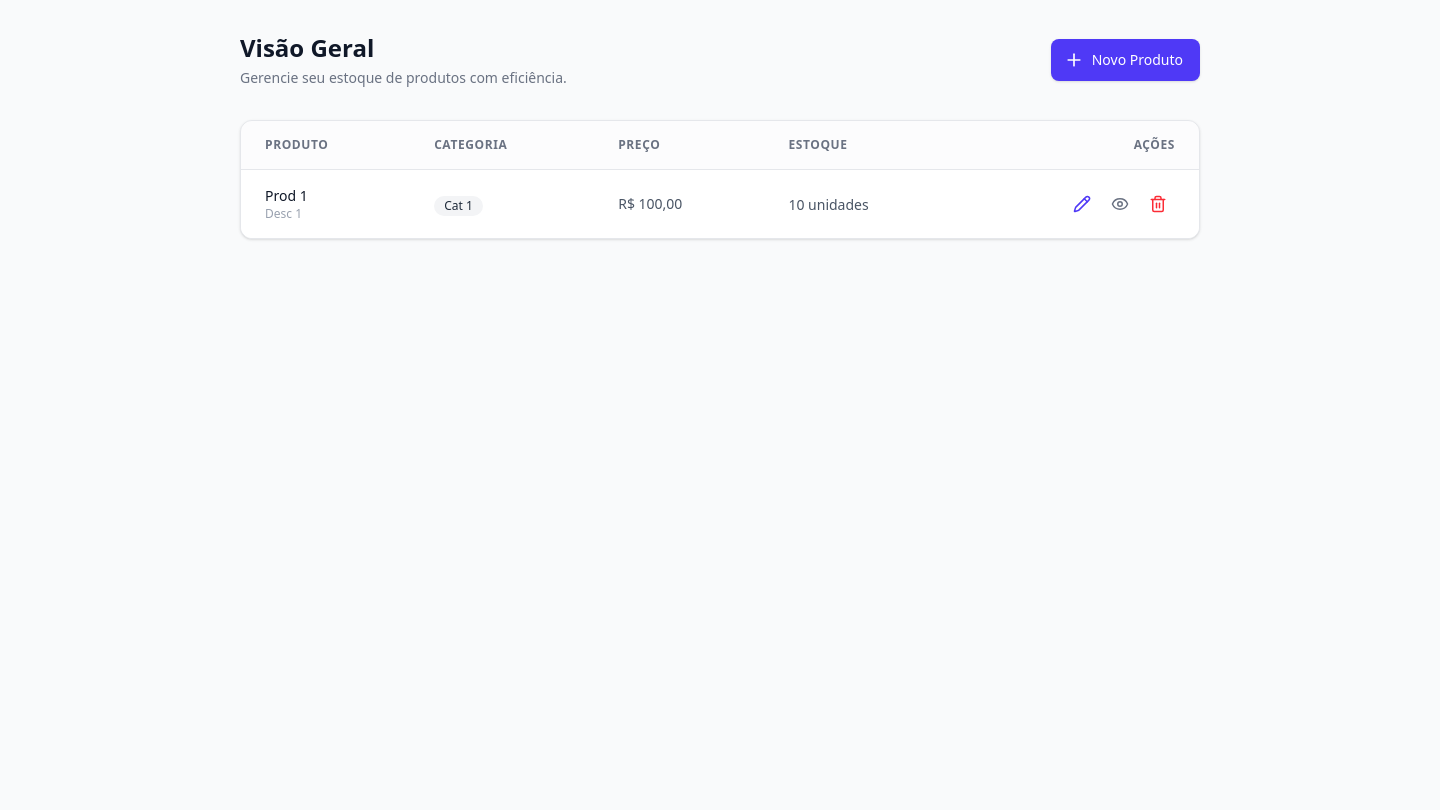
Test: ProductManager Page › opens view details modal
The image size is (1440, 810).
Click the button titled "Ver Detalhes" at (1120, 204), box [1103, 187, 1137, 221]
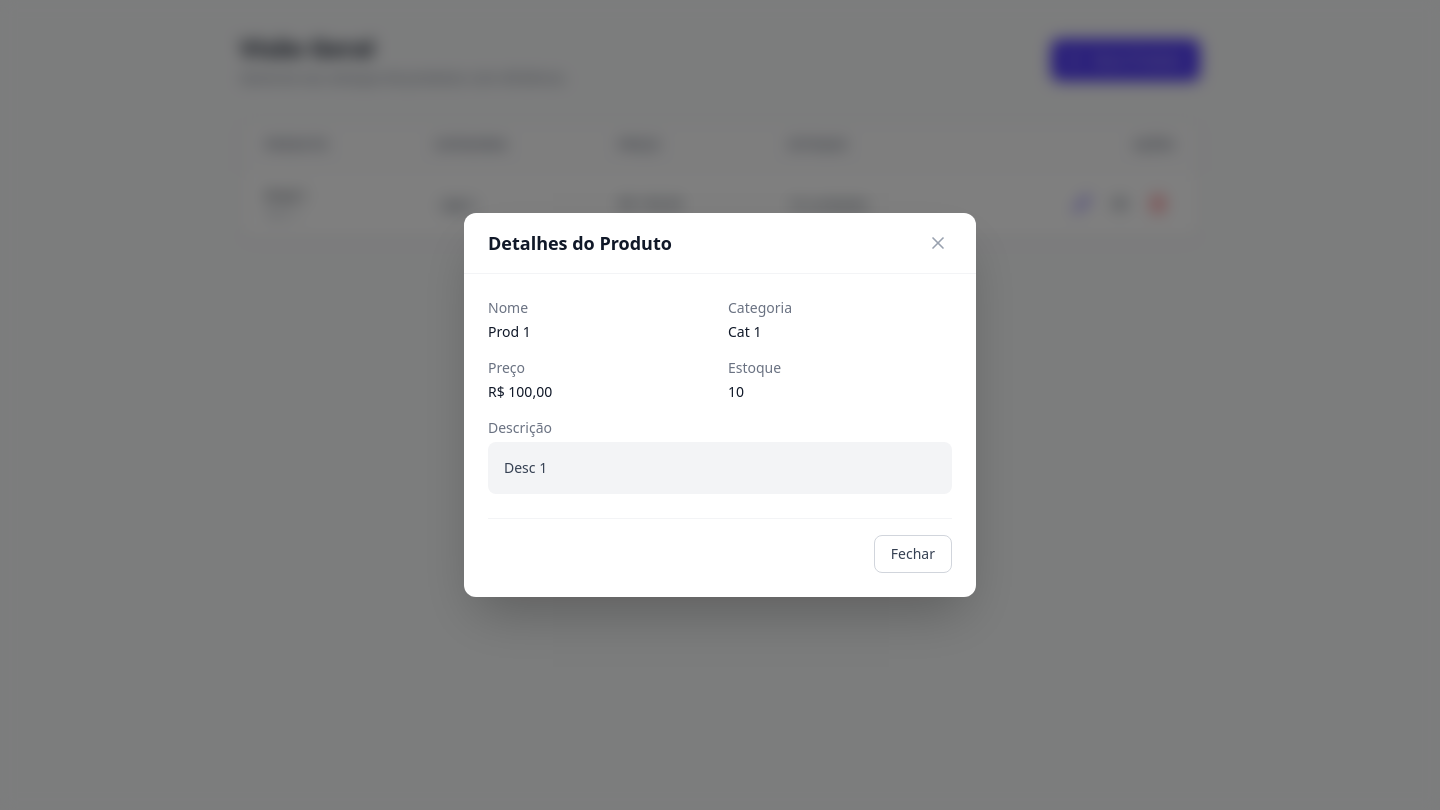
Now the heading "Detalhes do Produto" is shown, box [488, 229, 672, 257]
Click the button "Fechar" at (913, 554), box [874, 535, 952, 573]
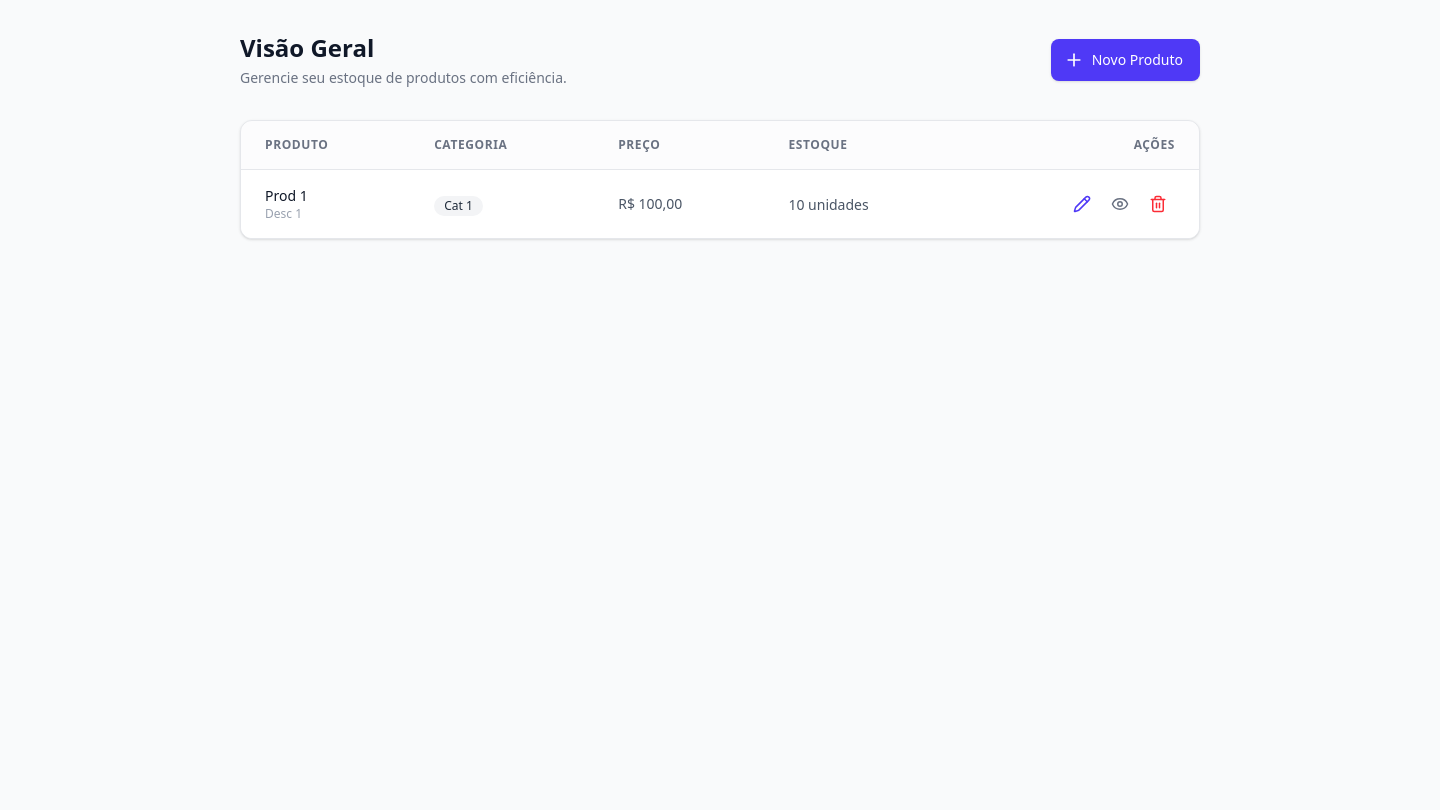
Now the heading "Detalhes do Produto" is gone
